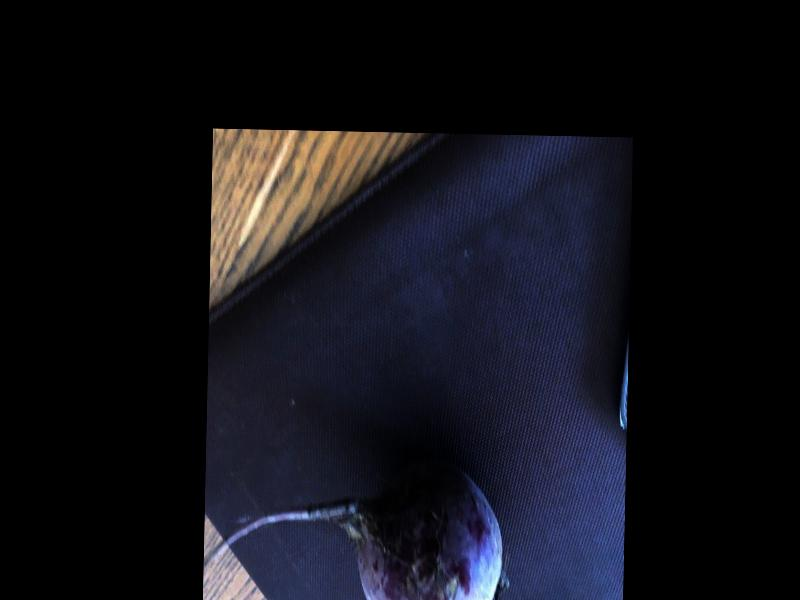Beet: (204, 456, 504, 600)
